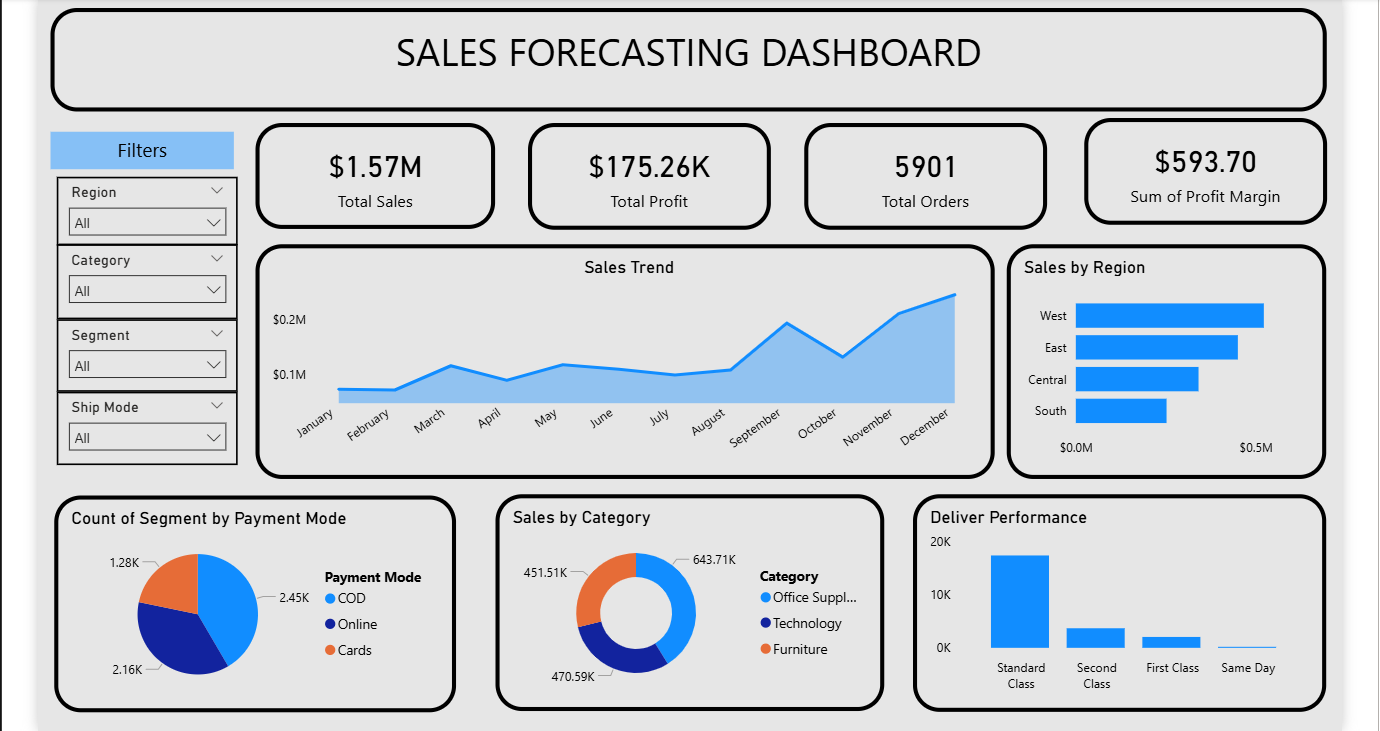

What the dashboard file says about the page in this screenshot:
{"tool":"powerbi","page":{"name":"Overview","canvas":[1280,720],"ordinal":0},"visuals":[{"type":"card","fields":{"Values":["Sheet1.Total Sales"]},"box":[213.5,122.7,235.6,104.3],"z":0},{"type":"card","fields":{"Values":["Sheet1.Total Profit"]},"box":[481.4,122.1,238.4,104.7],"z":1000},{"type":"textbox","box":[12.3,9.8,1252.8,101.8],"z":2000},{"type":"card","fields":{"Values":["Sheet1.Total Orders"]},"box":[752.3,122.1,238.4,104.7],"z":3000},{"type":"card","fields":{"Values":["Sum(Sheet1.Profit Mrgin)"]},"box":[1026.7,117.4,238.4,104.7],"z":4000},{"type":"lineChart","title":"Sales Trend","fields":{"Category":["Sheet1.Order Date.Variation.Date Hierarchy.Month"],"Y":["Sheet1.Total Sales"]},"box":[214,241.9,725.6,230.2],"z":5000},{"type":"barChart","title":"Sales by Region","fields":{"Category":["Sheet1.Region"],"Y":["Sales.Total Sales"]},"box":[951.2,241.9,314,230.2],"z":6000},{"type":"donutChart","title":"Sales by Category","fields":{"Category":["Sheet1.Category"],"Y":["Sum(Sheet1.Sales)"]},"box":[448.8,487.2,381.4,212.8],"z":7000},{"type":"pieChart","fields":{"Category":["Sheet1.Payment Mode"],"Y":["CountNonNull(Sheet1.Segment)"]},"box":[16.3,488.4,394.2,212.8],"z":8000},{"type":"columnChart","title":"Deliver Performance","fields":{"Y":["Sum(Sales.Delivery Days)"],"Category":["Sales.Ship Mode"]},"box":[859.3,487.2,405.8,214],"z":9000},{"type":"slicer","fields":{"Values":["Sales.Region"]},"box":[18.4,175.5,177.9,67.5],"z":11000},{"type":"slicer","fields":{"Values":["Sales.Category"]},"box":[18.4,241.7,177.9,73.6],"z":12000},{"type":"slicer","fields":{"Values":["Sales.Segment"]},"box":[18.4,315.3,177.9,71.2],"z":13000},{"type":"slicer","fields":{"Values":["Sales.Ship Mode"]},"box":[18.4,386.5,177.9,72.4],"z":14000},{"type":"image","box":[241.9,140.7,33.7,58.1],"z":15000},{"type":"image","box":[481.4,148.8,59.3,40.7],"z":16000},{"type":"image","box":[762.8,147.7,57,40.7],"z":17000},{"type":"image","box":[1040.7,140.7,44.2,48.8],"z":18000},{"type":"textbox","box":[12.3,131.3,180.4,36.8],"z":19000}]}

Visuals, with their boxes in screenshot pixels (x1, y1, x2, y2):
card - Sheet1.Total Sales: {"x1": 267, "y1": 123, "x2": 503, "y2": 227}
card - Sheet1.Total Profit: {"x1": 535, "y1": 122, "x2": 773, "y2": 227}
textbox: {"x1": 66, "y1": 10, "x2": 1318, "y2": 112}
card - Sheet1.Total Orders: {"x1": 806, "y1": 122, "x2": 1044, "y2": 227}
card - Sum(Sheet1.Profit Mrgin): {"x1": 1080, "y1": 117, "x2": 1318, "y2": 222}
"Sales Trend" lineChart: {"x1": 268, "y1": 242, "x2": 993, "y2": 472}
"Sales by Region" barChart: {"x1": 1004, "y1": 242, "x2": 1318, "y2": 472}
"Sales by Category" donutChart: {"x1": 502, "y1": 487, "x2": 883, "y2": 699}
pieChart - Sheet1.Payment Mode x CountNonNull(Sheet1.Segment): {"x1": 70, "y1": 488, "x2": 464, "y2": 701}
"Deliver Performance" columnChart: {"x1": 913, "y1": 487, "x2": 1318, "y2": 701}
slicer - Sales.Region: {"x1": 72, "y1": 175, "x2": 250, "y2": 243}
slicer - Sales.Category: {"x1": 72, "y1": 242, "x2": 250, "y2": 315}
slicer - Sales.Segment: {"x1": 72, "y1": 315, "x2": 250, "y2": 386}
slicer - Sales.Ship Mode: {"x1": 72, "y1": 386, "x2": 250, "y2": 459}
image: {"x1": 296, "y1": 141, "x2": 329, "y2": 199}
image: {"x1": 535, "y1": 149, "x2": 594, "y2": 189}
image: {"x1": 816, "y1": 148, "x2": 873, "y2": 188}
image: {"x1": 1094, "y1": 141, "x2": 1138, "y2": 189}
textbox: {"x1": 66, "y1": 131, "x2": 246, "y2": 168}
